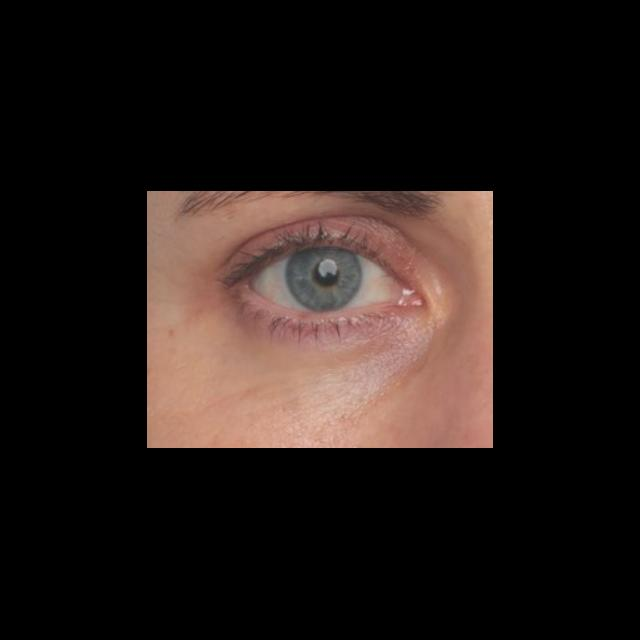eye: (249, 247, 403, 313)
iris: (287, 250, 362, 311)
